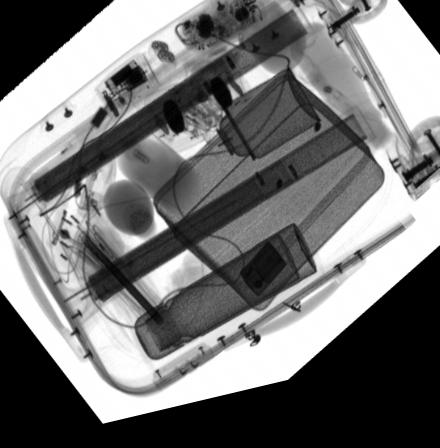Lighter: (239, 253, 286, 308)
Sprayer: (194, 80, 319, 188)
